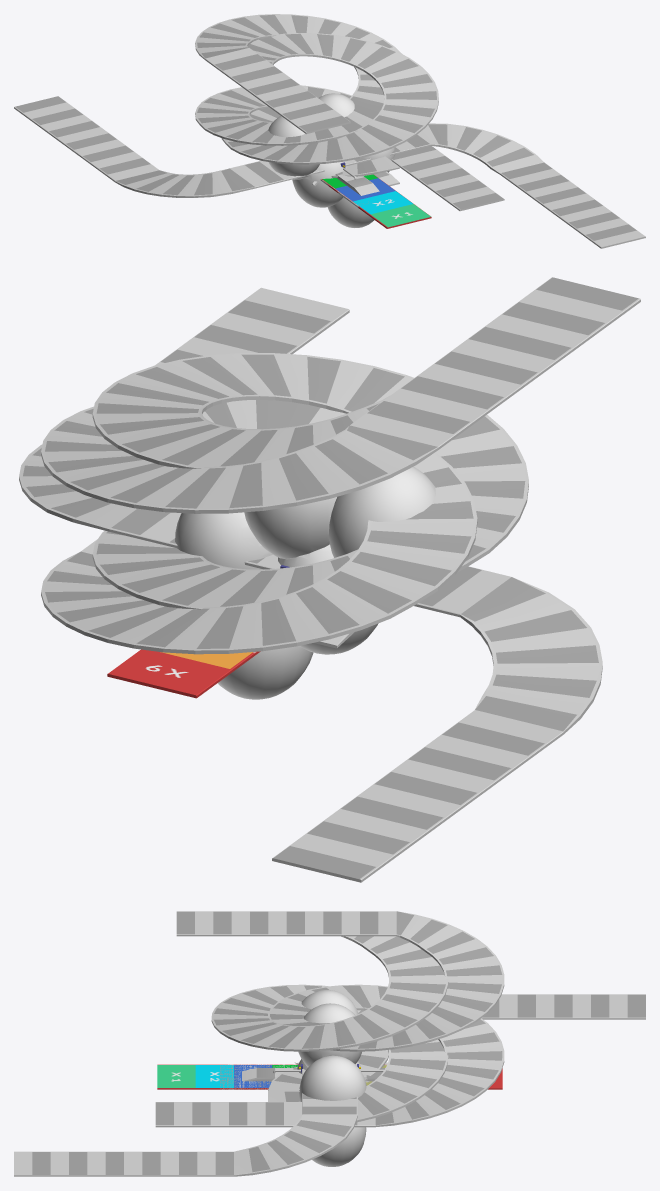
File: wipeout new 2023.fbx
The picture shows the model from 3 angles, top to bottom: view 1: azimuth 30°, elevation 25°; view 2: azimuth 150°, elevation 25°; view 3: azimuth 270°, elevation 25°; orthographic projection. The views are drawn at different scales.
Visible parts, largest first — view 1: path09, pth03, path04, cloud, points_path, path05, obs01; view 2: path09, pth03, path04, cloud, points_path; view 3: path09, path04, pth03, cloud, points_path, path06, path07, obs01, path05.
Part boxes in pixels (x1,y1,x2,y2): path09: (195,14,504,211); pth03: (14,96,645,248); path04: (221,33,438,164); cloud: (268,93,395,227); points_path: (321,174,431,228); path05: (331,156,399,177); obs01: (335,172,379,195); path09: (41,277,640,654); pth03: (19,287,602,882); path04: (92,353,528,609); cloud: (175,466,435,699); points_path: (107,649,260,698); path09: (155,911,504,1127); path04: (211,935,448,1122); pth03: (14,994,645,1176); cloud: (297,990,366,1166); points_path: (157,1064,502,1089); path06: (268,1050,388,1101); path07: (220,1064,386,1089); obs01: (242,1068,385,1081); path05: (268,1062,387,1091).
Size of what is drawn, in the model's own units: 10682 by 5227 by 15768.
Materials: 12 (3 with a texture image).
